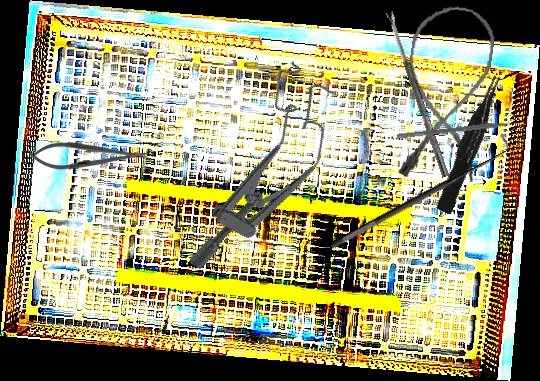Cannula: (393, 0, 499, 187)
Hook Surgical: (321, 132, 517, 252)
Needle Holder: (29, 142, 148, 170)
Spatula Surgical: (396, 118, 524, 145)
Speculum: (172, 57, 358, 295)
Surgical Spoon: (385, 10, 451, 178)
Tissue Forceps: (430, 74, 512, 215)
